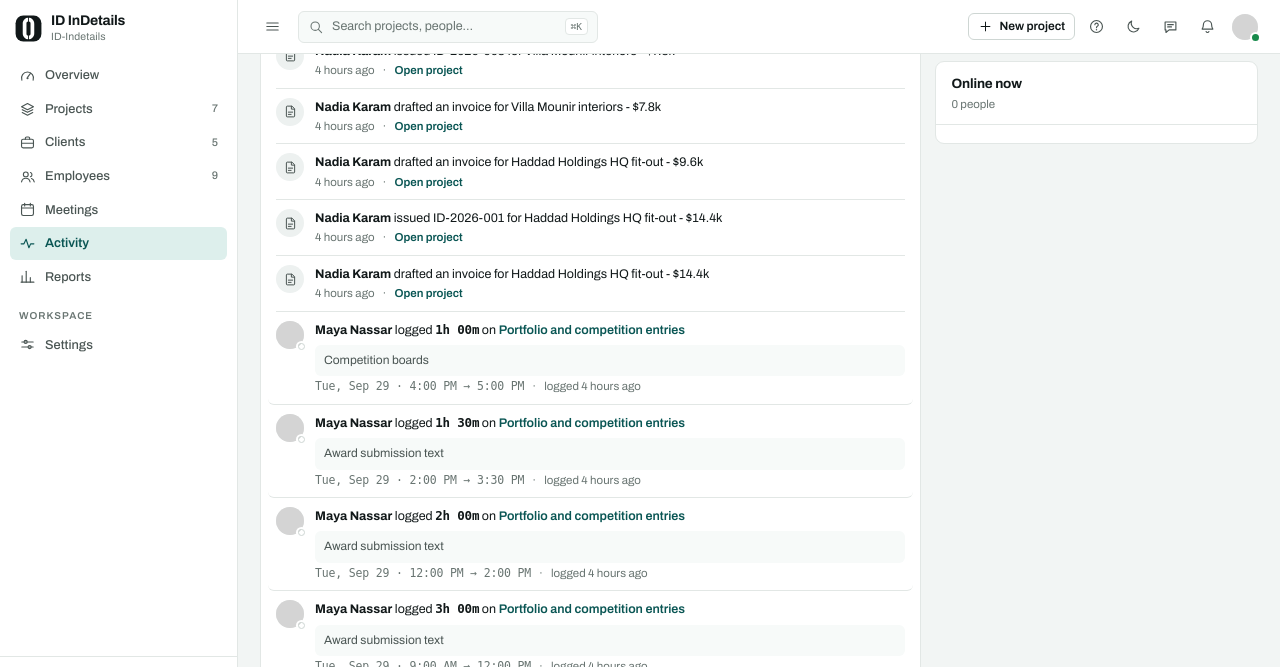
Test: Activity › lists what happened day by day, and opens logged work
(page scrolled)
Click the text "Competition boards".
click(610, 361)  # box [315,345,905,376]
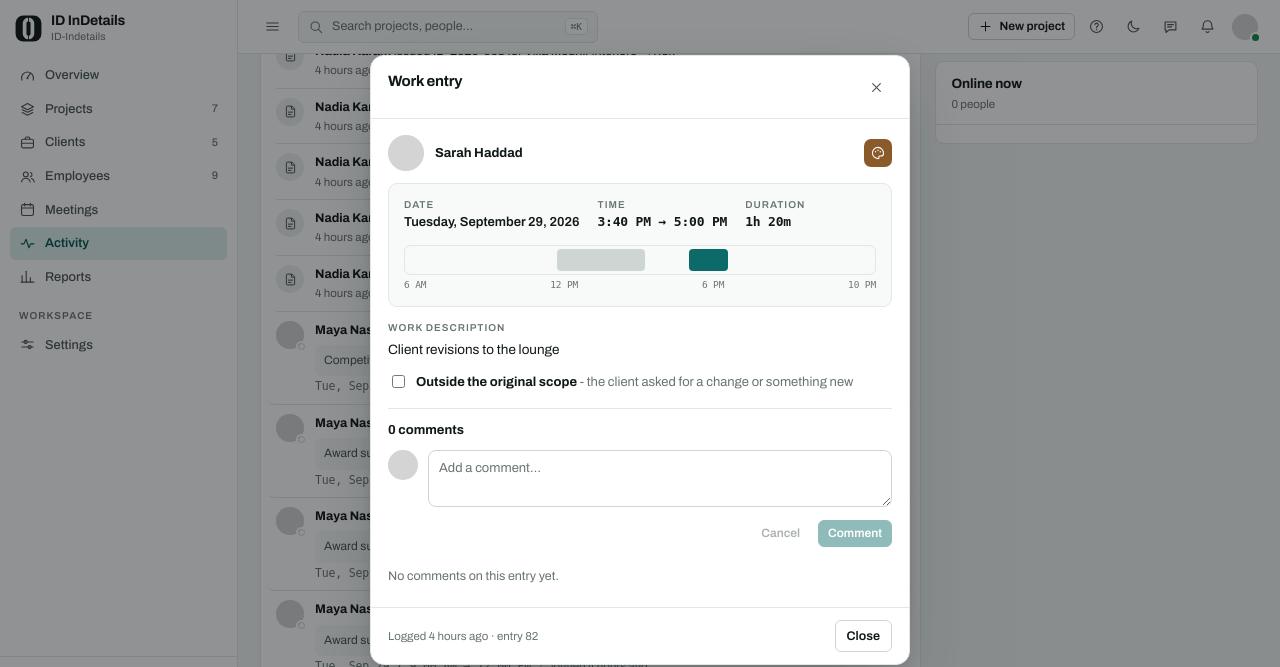
Now the dialog "Work entry" is shown, box [370,55,910,665]
